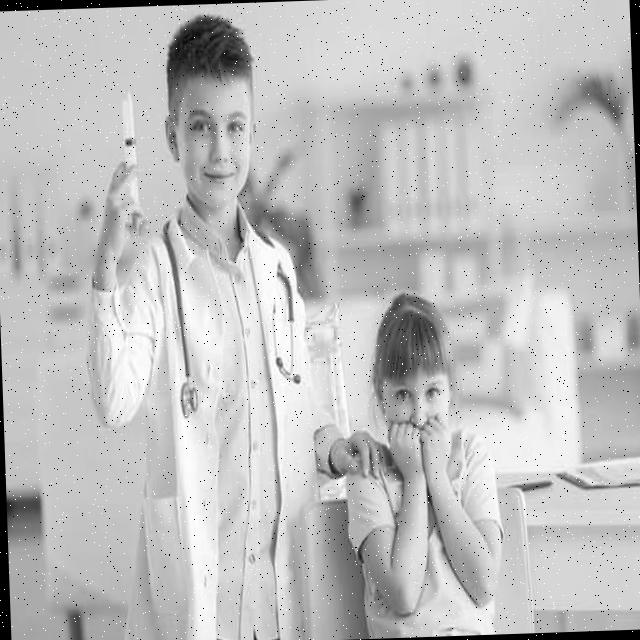Fear: (388, 368, 448, 450)
